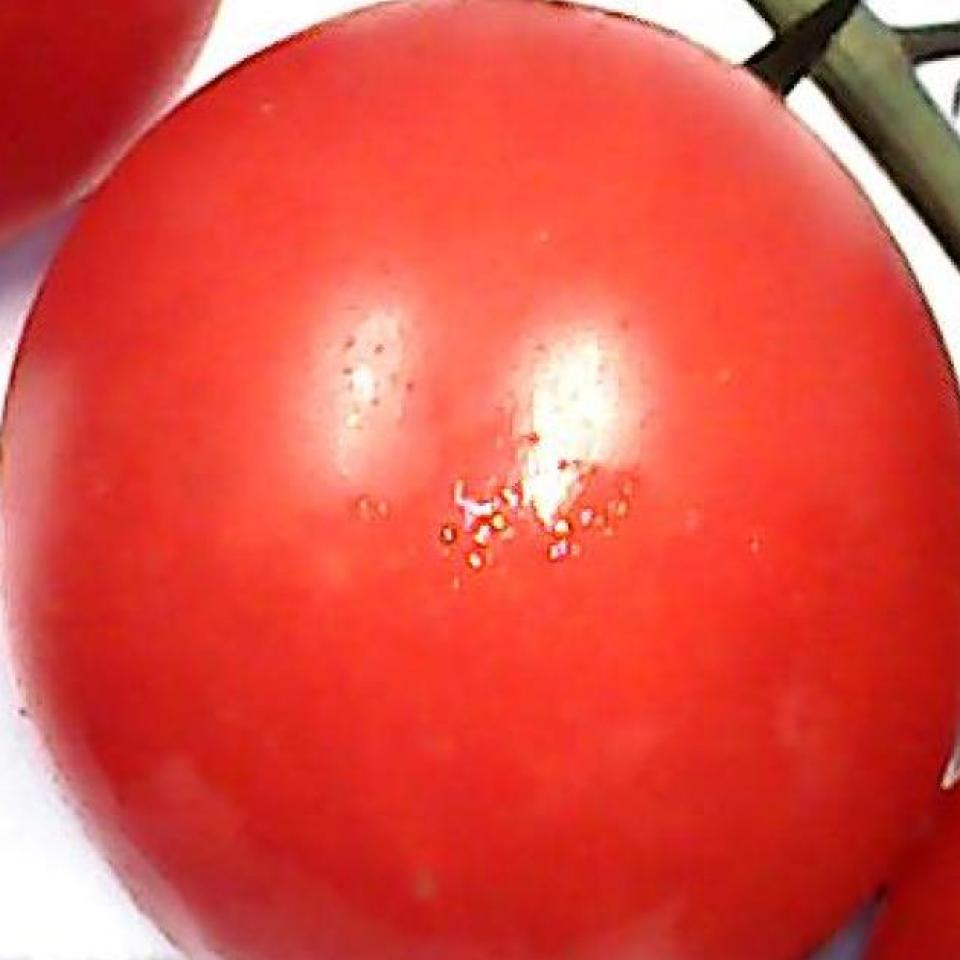Healthy: (10, 6, 960, 960)
